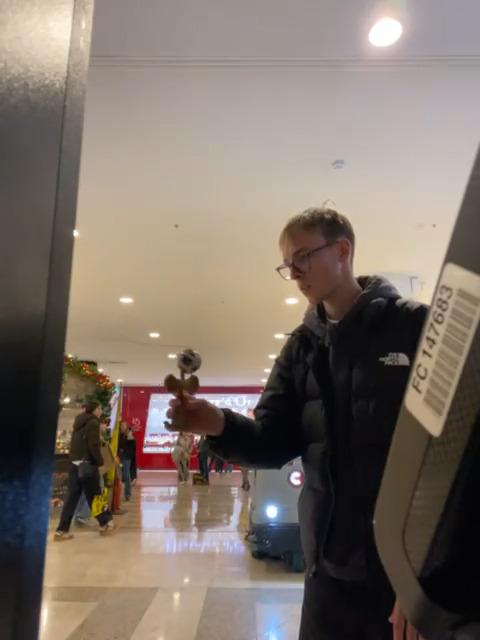kendama_ball: (177, 349, 201, 374)
